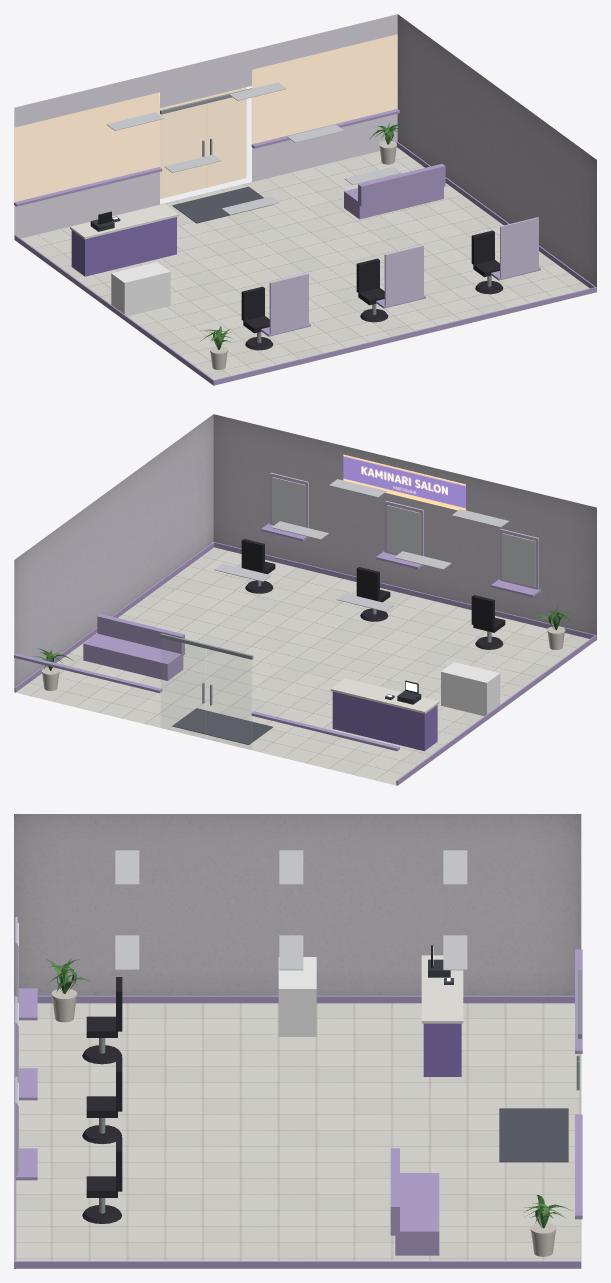
The model's file is interior-salon.opt.glb.
The picture shows the model from 3 angles, top to bottom: view 1: azimuth 30°, elevation 25°; view 2: azimuth 150°, elevation 25°; view 3: azimuth 270°, elevation 25°; orthographic projection. The views are drawn at different scales.
Parts seen in each view (by area): view 1: object 1, interior:salon:street-view, object 9, object 6, object 7, object 13, object 11, object 15; view 2: object 6, object 1, object 9, object 12, object 13, name-sign, object 11, object 7, object 15; view 3: object 1, object 6, object 9, object 11, object 13, object 7, object 15.
Boxes of the visible parts, x1,y1,x2,y2 form: object 1: (16, 147, 589, 384); interior:salon:street-view: (14, 34, 397, 202); object 9: (14, 109, 596, 385); object 6: (397, 14, 596, 286); object 7: (14, 14, 397, 239); object 13: (344, 164, 445, 219); object 11: (106, 82, 491, 342); object 15: (200, 122, 405, 349); object 6: (14, 414, 596, 691); object 1: (16, 547, 594, 785); object 9: (14, 472, 596, 785); object 12: (272, 477, 535, 587); object 13: (83, 614, 184, 680); name-sign: (343, 454, 465, 510); object 11: (214, 479, 509, 642); object 7: (172, 708, 272, 744); object 15: (34, 605, 575, 670); object 1: (14, 1003, 581, 1268); object 6: (14, 814, 581, 995); object 9: (14, 917, 582, 1268); object 11: (99, 850, 467, 1213); object 13: (390, 1148, 439, 1255); object 7: (499, 1108, 568, 1162); object 15: (46, 958, 571, 1228).
Size of the model in its own units: 10 by 3.31 by 9.25.
14 materials, 4 textured.
